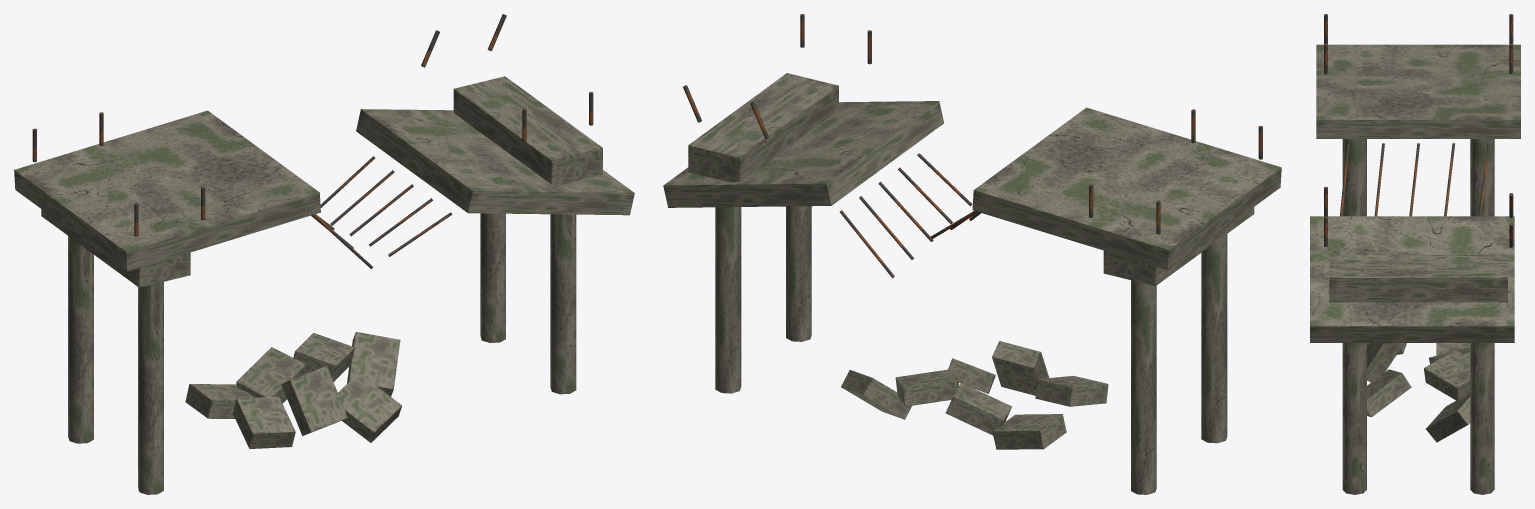
File: collapsedOverpass.glb
3 views of the same model, side by side, from view 1: azimuth 30°, elevation 25°; view 2: azimuth 150°, elevation 25°; view 3: azimuth 270°, elevation 25° (orthographic). The views are drawn at different scales.
Parts seen in each view (by area): view 1: b3_prop_collapsed_overpass_0; view 2: b3_prop_collapsed_overpass_0; view 3: b3_prop_collapsed_overpass_0.
Part boxes in pixels (x1,y1,x2,y2): b3_prop_collapsed_overpass_0: (14,14,634,494); b3_prop_collapsed_overpass_0: (663,14,1281,494); b3_prop_collapsed_overpass_0: (1310,14,1520,494).
Size of the model in its own units: 8.33 by 4.98 by 3.3.
Materials: 2 (2 with a texture image).
